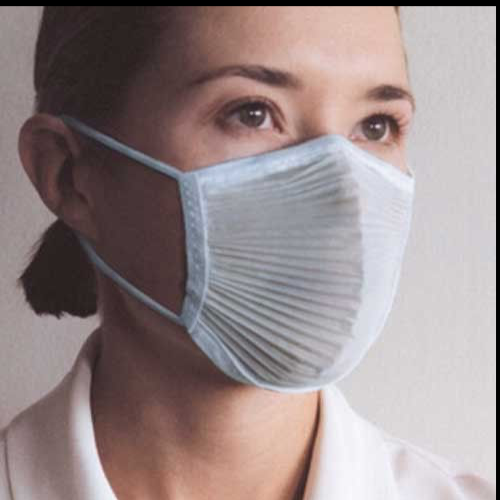with_mask: (101, 55, 418, 392)
